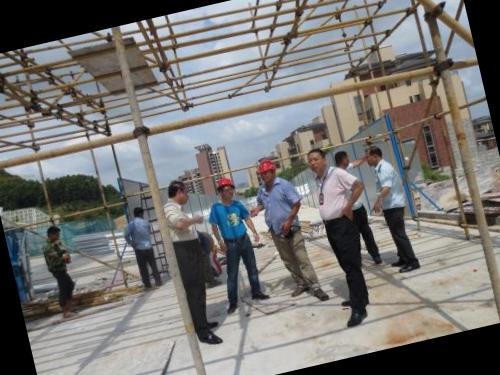no_helmet: (162, 172, 196, 209), (298, 144, 330, 178), (360, 142, 386, 170), (330, 146, 353, 170), (44, 223, 64, 244), (128, 202, 148, 222)
